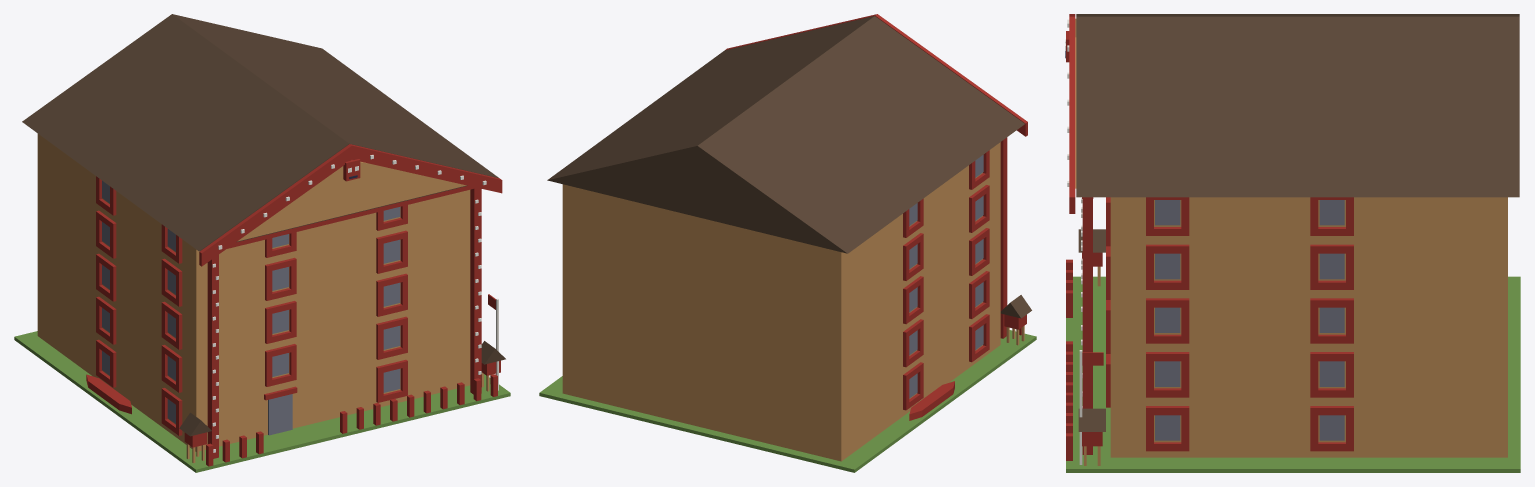
The model's file is house-2x2-5f-whare-a.glb.
The picture shows the model from 3 angles, left to right: view 1: azimuth 30°, elevation 25°; view 2: azimuth 150°, elevation 25°; view 3: azimuth 270°, elevation 25°; orthographic projection. The views are drawn at different scales.
Parts seen in each view (by area): view 1: house-2x2-5f-whare-a; view 2: house-2x2-5f-whare-a; view 3: house-2x2-5f-whare-a.
Boxes of the visible parts, <box> form: house-2x2-5f-whare-a: <box>14,14,510,472</box>; house-2x2-5f-whare-a: <box>539,14,1036,472</box>; house-2x2-5f-whare-a: <box>1065,14,1520,472</box>.
Bounding box in the file's own units: 2 × 1.74 × 1.99.
1 material, 1 textured.
